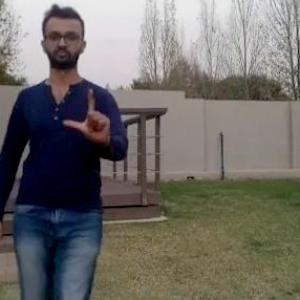land_hand: (65, 85, 121, 150)
